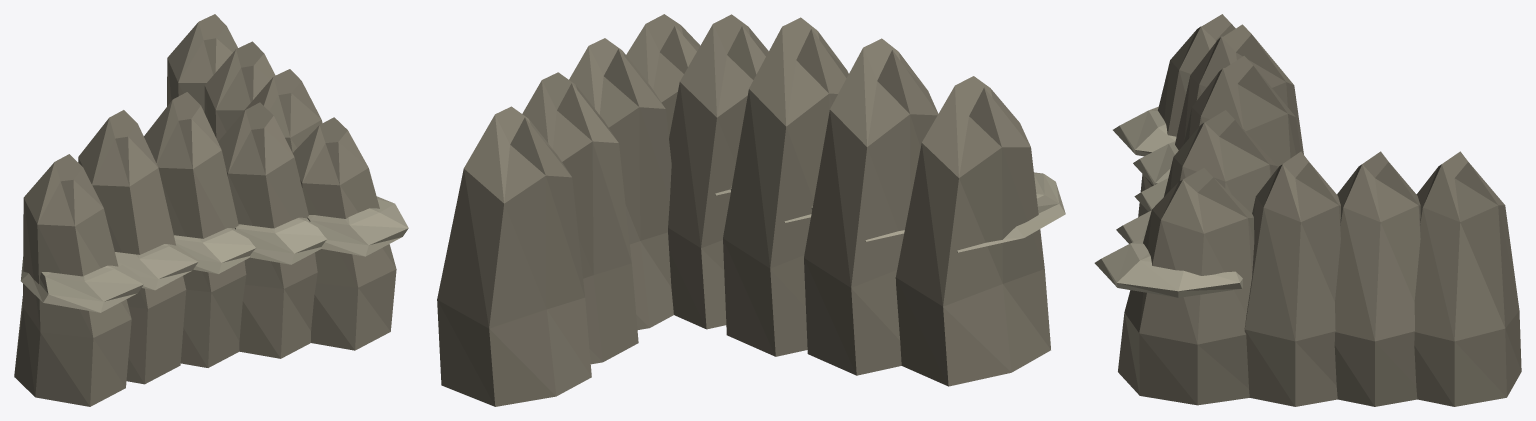
File: cliff-corner.glb
The picture shows the model from 3 angles, left to right: view 1: azimuth 30°, elevation 25°; view 2: azimuth 150°, elevation 25°; view 3: azimuth 270°, elevation 25°; orthographic projection. The views are drawn at different scales.
Parts seen in each view (by area): view 1: cliff-corner; view 2: cliff-corner; view 3: cliff-corner.
Part boxes in pixels (<box>): cliff-corner: <box>14,14,408,406</box>; cliff-corner: <box>437,14,1065,406</box>; cliff-corner: <box>1094,14,1521,406</box>.
Size of the model in its own units: 4.59 by 2.9 by 4.45.
